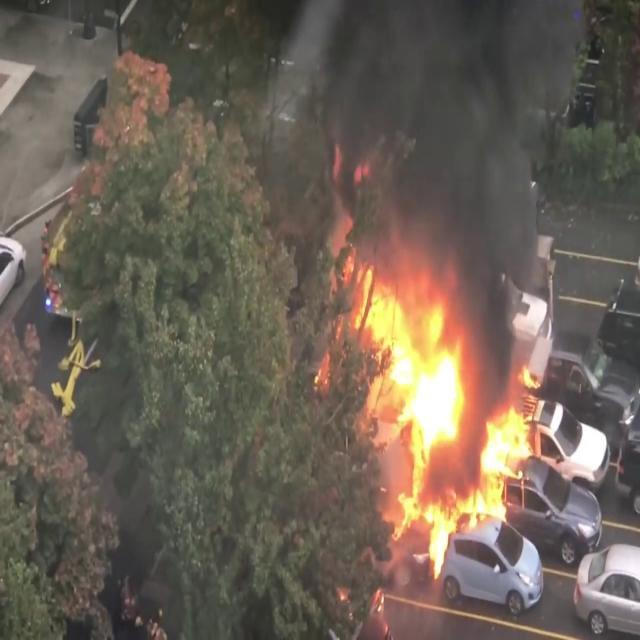Fire: (342, 252, 543, 550)
Smoke: (266, 0, 608, 291)
